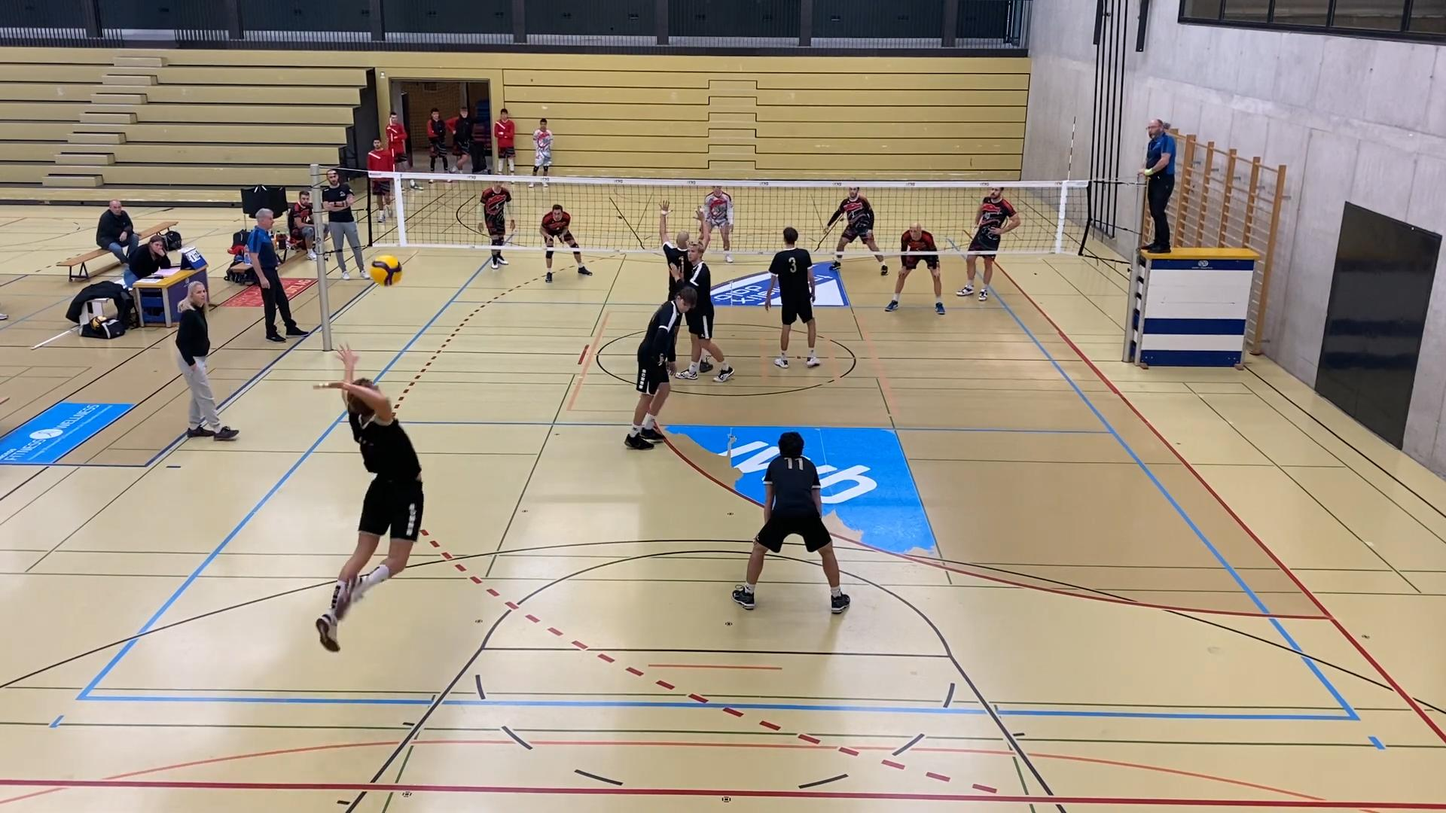battuta: (303, 353, 431, 650)
